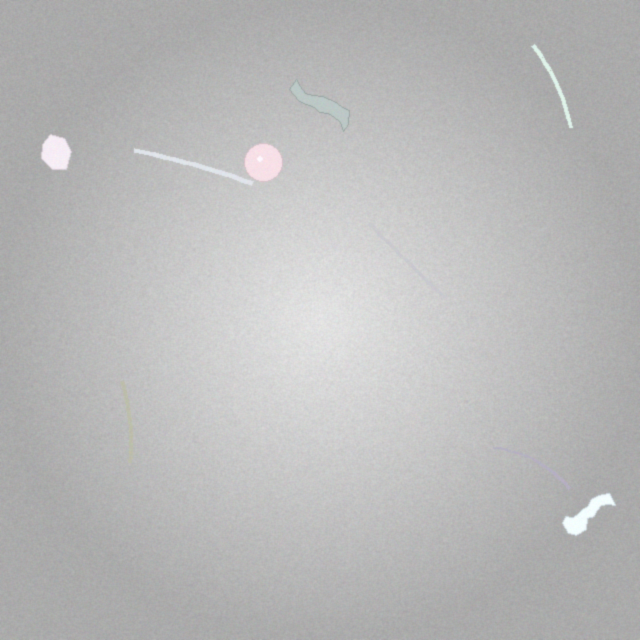fiber: (366, 220, 450, 302), (129, 145, 258, 189), (528, 42, 575, 131), (490, 444, 573, 492), (117, 376, 135, 467)
film: (289, 80, 349, 132), (563, 494, 616, 535)
fragment: (41, 135, 71, 170)
pellet: (245, 144, 283, 182)
